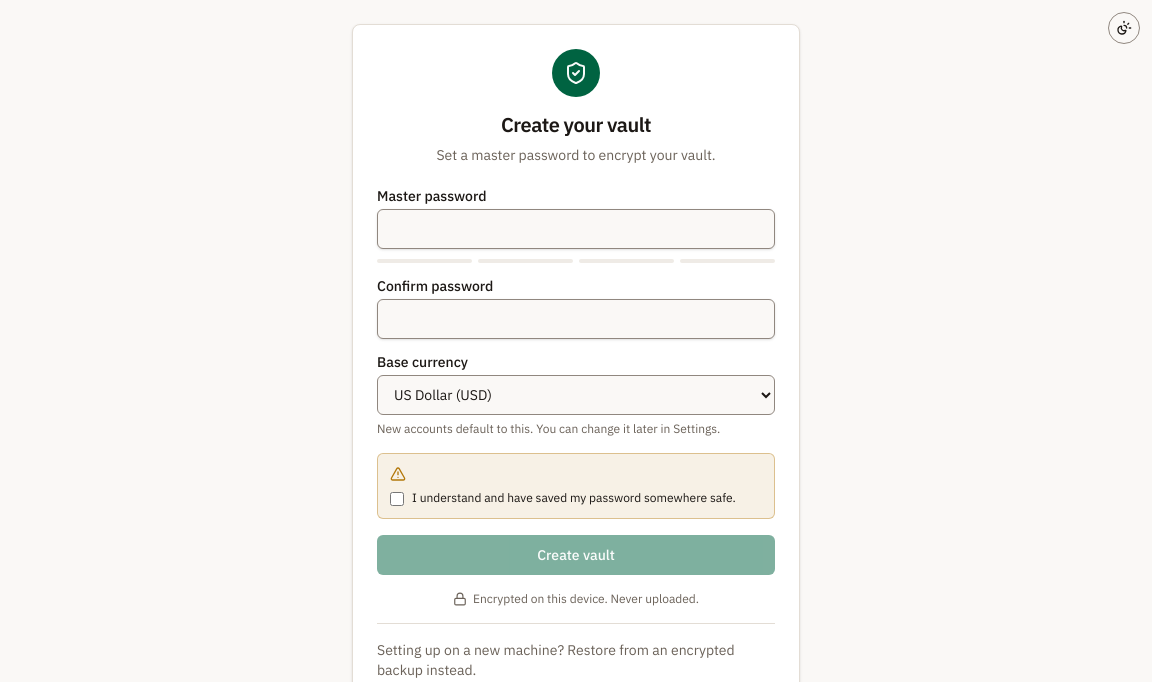
vault flows › creates a vault and lands on the first-run wizard
Expected: the heading "Create your vault" is shown, left=501, top=111, right=651, bottom=139
Type "supersecret" into the password field labelled "Master password" at (576, 229), box left=377, top=209, right=775, bottom=249
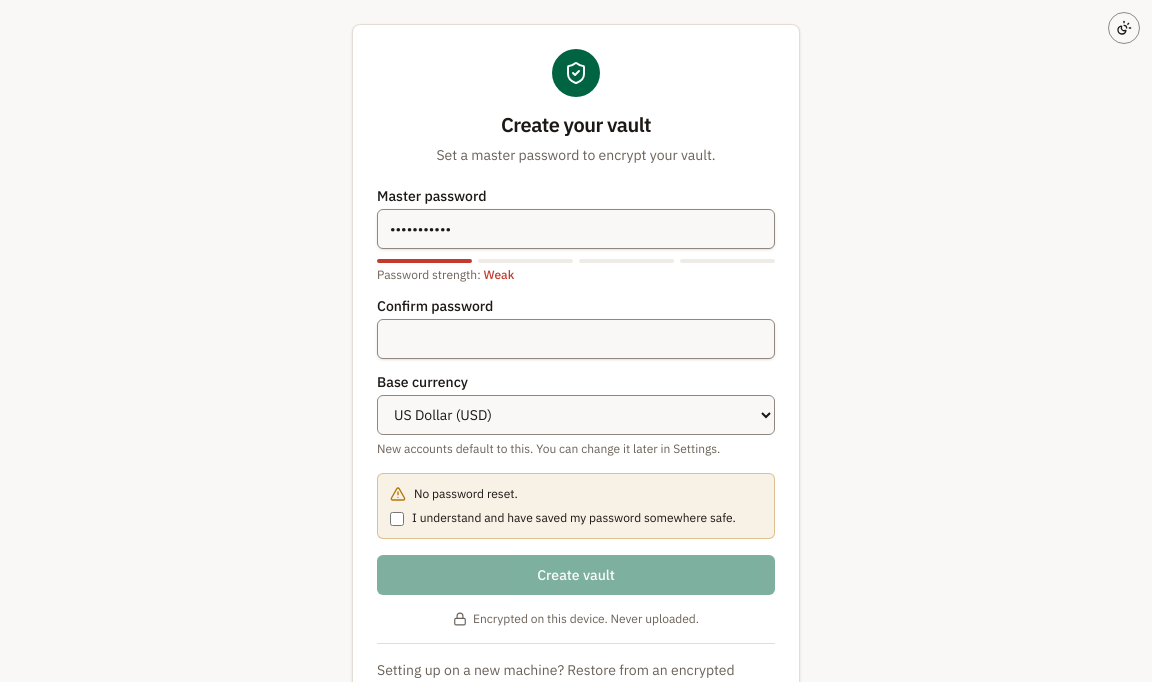
Type "supersecret" into the password field labelled "Confirm password" at (576, 339), box left=377, top=319, right=775, bottom=359
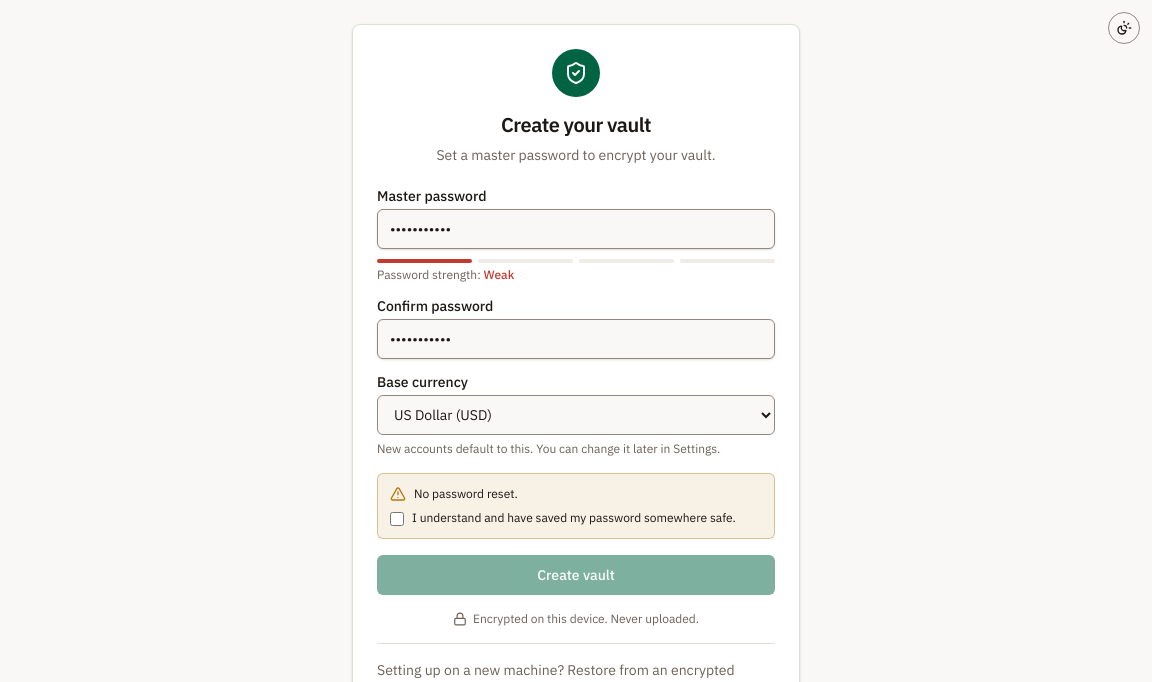
// The no-reset warning must be acknowledged before creation is allowed.
Click the checkbox at (397, 519), box left=390, top=512, right=404, bottom=526
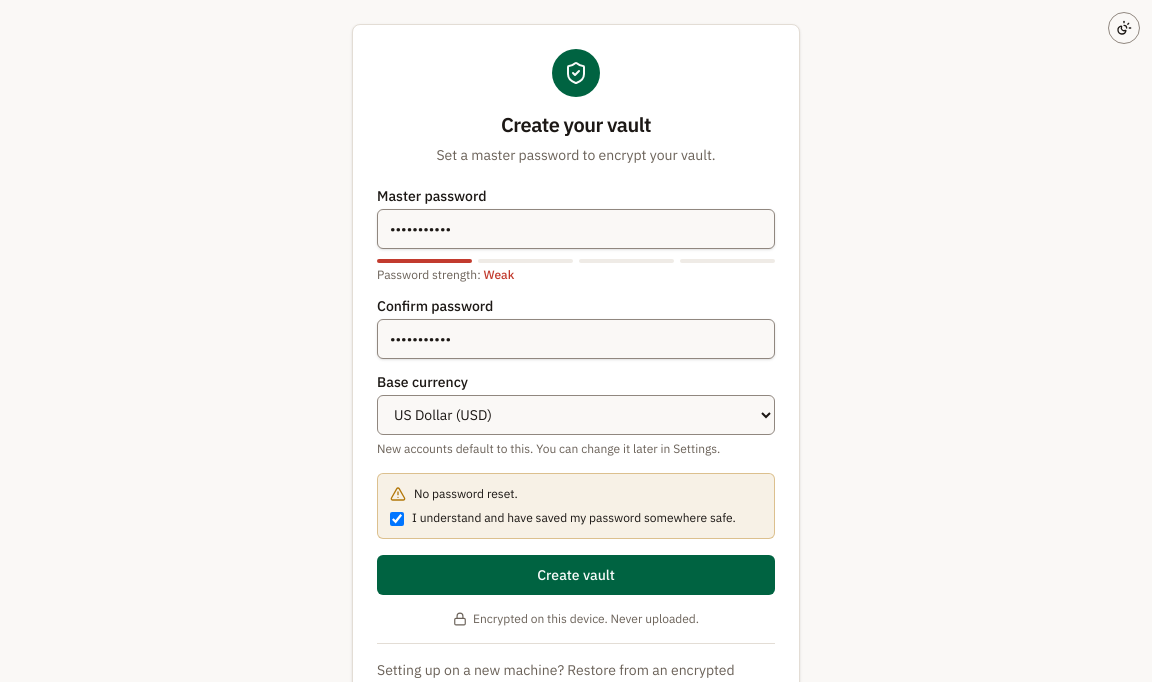
Click the button "Create vault" at (576, 575), box left=377, top=555, right=775, bottom=595
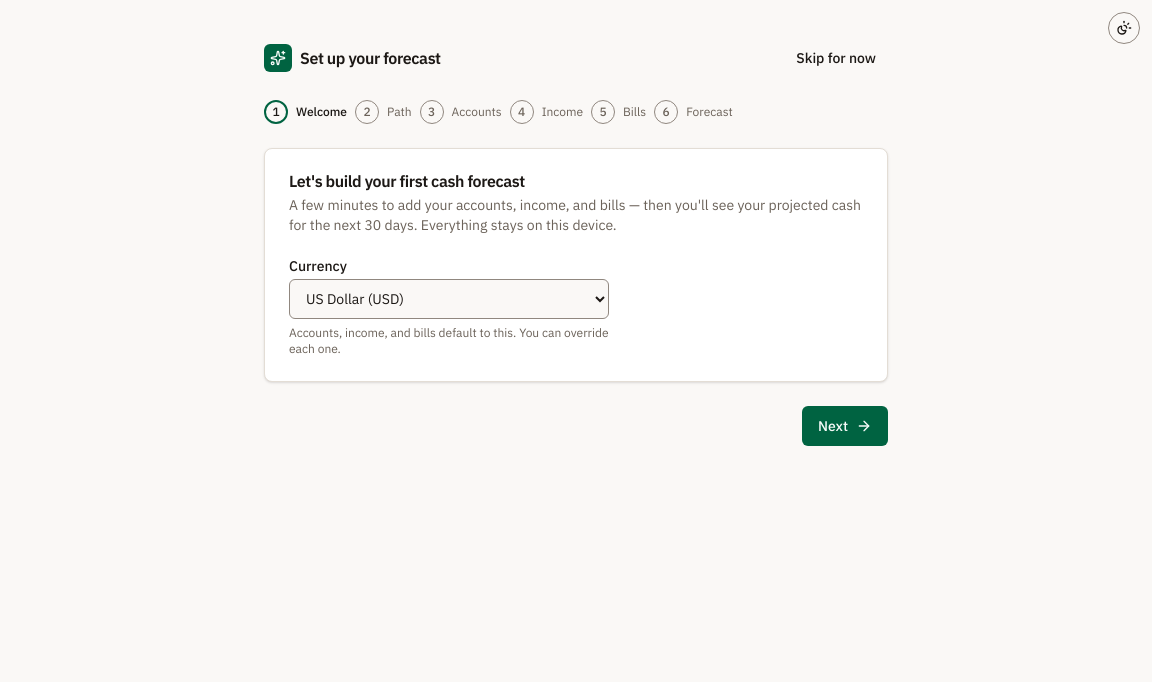
Expected: the text "Let's build your first cash forecast" is shown, left=289, top=171, right=525, bottom=191
